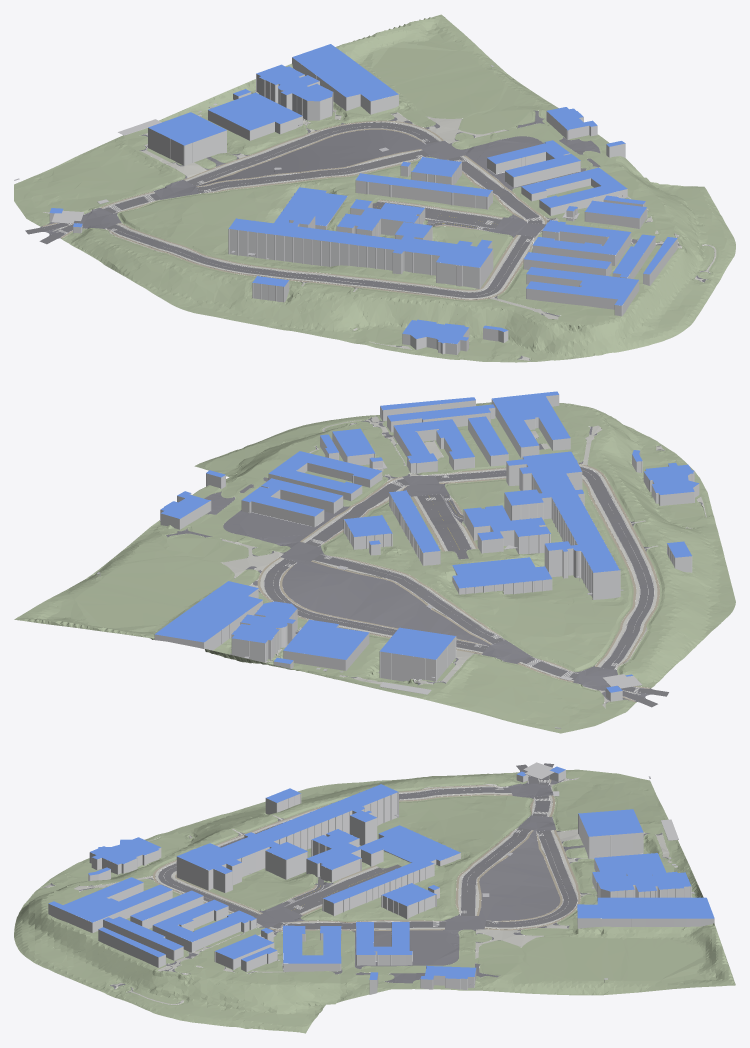
The model's file is campus.glb.
3 views of the same model, one above another, from view 1: azimuth 30°, elevation 25°; view 2: azimuth 150°, elevation 25°; view 3: azimuth 270°, elevation 25° (orthographic). The views are drawn at different scales.
Visible parts, largest first — view 1: terreno, predio_E01, pista, pavimento_asfalto, acostamento, predio_E02, predio_E03, calcada, predio_E10, predio_E07, predio_E05, predio_E06 (+17 smaller); view 2: terreno, pavimento_asfalto, pista, predio_E01, predio_E02, acostamento, predio_E03, predio_E10, calcada, predio_E11, predio_E06, predio_E09 (+17 smaller); view 3: terreno, pavimento_asfalto, predio_E01, pista, predio_E02, predio_E03, predio_E07, predio_E10, acostamento, predio_E09, predio_E13, calcada (+18 smaller).
Part boxes in pixels (x1=…): terreno: x1=14, y1=14, x2=735, y2=362; predio_E01: x1=228, y1=213, x2=493, y2=288; pista: x1=25, y1=122, x2=542, y2=297; pavimento_asfalto: x1=40, y1=92, x2=710, y2=360; acostamento: x1=42, y1=120, x2=547, y2=300; predio_E02: x1=292, y1=44, x2=398, y2=114; predio_E03: x1=526, y1=267, x2=639, y2=316; calcada: x1=102, y1=121, x2=544, y2=299; predio_E10: x1=148, y1=112, x2=226, y2=165; predio_E07: x1=532, y1=220, x2=631, y2=266; predio_E05: x1=208, y1=92, x2=302, y2=140; predio_E06: x1=521, y1=167, x2=627, y2=215; terreno: x1=14, y1=402, x2=735, y2=733; pavimento_asfalto: x1=166, y1=417, x2=702, y2=703; pista: x1=264, y1=467, x2=668, y2=707; predio_E01: x1=504, y1=451, x2=620, y2=599; predio_E02: x1=154, y1=581, x2=262, y2=652; acostamento: x1=257, y1=464, x2=659, y2=701; predio_E03: x1=491, y1=391, x2=570, y2=458; predio_E10: x1=379, y1=627, x2=456, y2=681; calcada: x1=260, y1=465, x2=657, y2=680; predio_E11: x1=241, y1=478, x2=343, y2=527; predio_E06: x1=268, y1=451, x2=382, y2=500; predio_E09: x1=463, y1=505, x2=550, y2=554; terreno: x1=14, y1=769, x2=735, y2=1033; pavimento_asfalto: x1=44, y1=771, x2=670, y2=1003; predio_E01: x1=176, y1=784, x2=398, y2=892; pista: x1=158, y1=763, x2=577, y2=929; predio_E02: x1=577, y1=897, x2=714, y2=928; predio_E03: x1=48, y1=877, x2=172, y2=932; predio_E07: x1=152, y1=899, x2=256, y2=952; predio_E10: x1=578, y1=809, x2=643, y2=858; acostamento: x1=153, y1=779, x2=580, y2=930; predio_E09: x1=306, y1=829, x2=383, y2=882; predio_E13: x1=322, y1=858, x2=434, y2=915; calcada: x1=155, y1=779, x2=578, y2=929.
Bounding box in the file's own units: 402 × 27.93 × 454.
